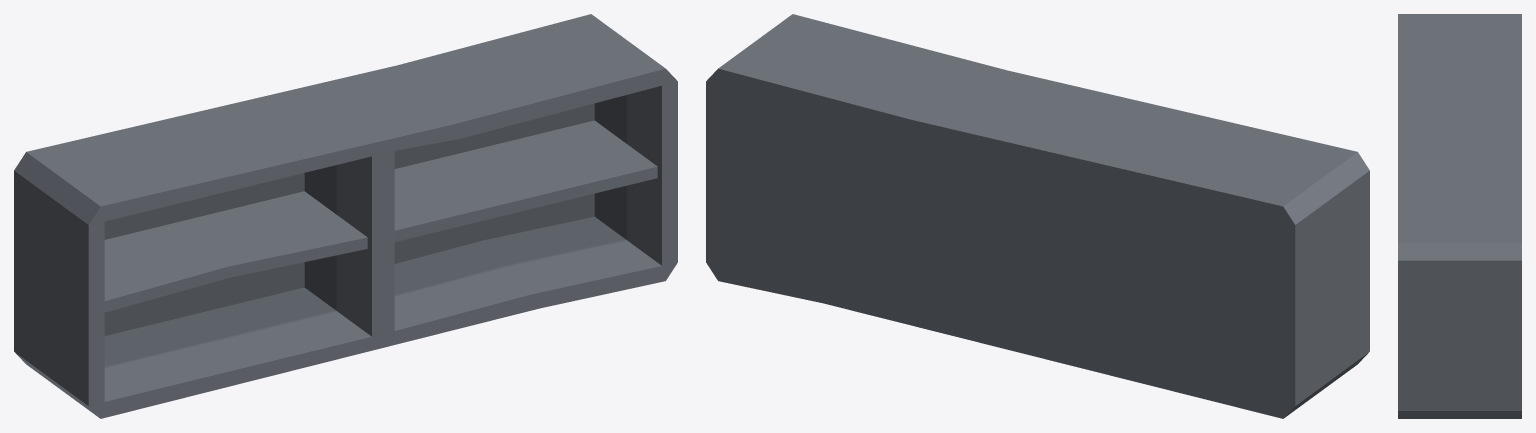
The model's file is SM_Prop_Shelf_Wall_01.fbx.
3 views of the same model, side by side, from view 1: azimuth 30°, elevation 25°; view 2: azimuth 150°, elevation 25°; view 3: azimuth 270°, elevation 25° (orthographic). The views are drawn at different scales.
Visible parts, largest first — view 1: SM_Prop_Shelf_Wall_01; view 2: SM_Prop_Shelf_Wall_01; view 3: SM_Prop_Shelf_Wall_01.
Part boxes in pixels (x1=…): SM_Prop_Shelf_Wall_01: x1=14, y1=14, x2=677, y2=418; SM_Prop_Shelf_Wall_01: x1=706, y1=14, x2=1369, y2=418; SM_Prop_Shelf_Wall_01: x1=1398, y1=14, x2=1521, y2=418.
Bounding box in the file's own units: 153 × 52.77 × 33.58.
Materials: 1 (1 with a texture image).
